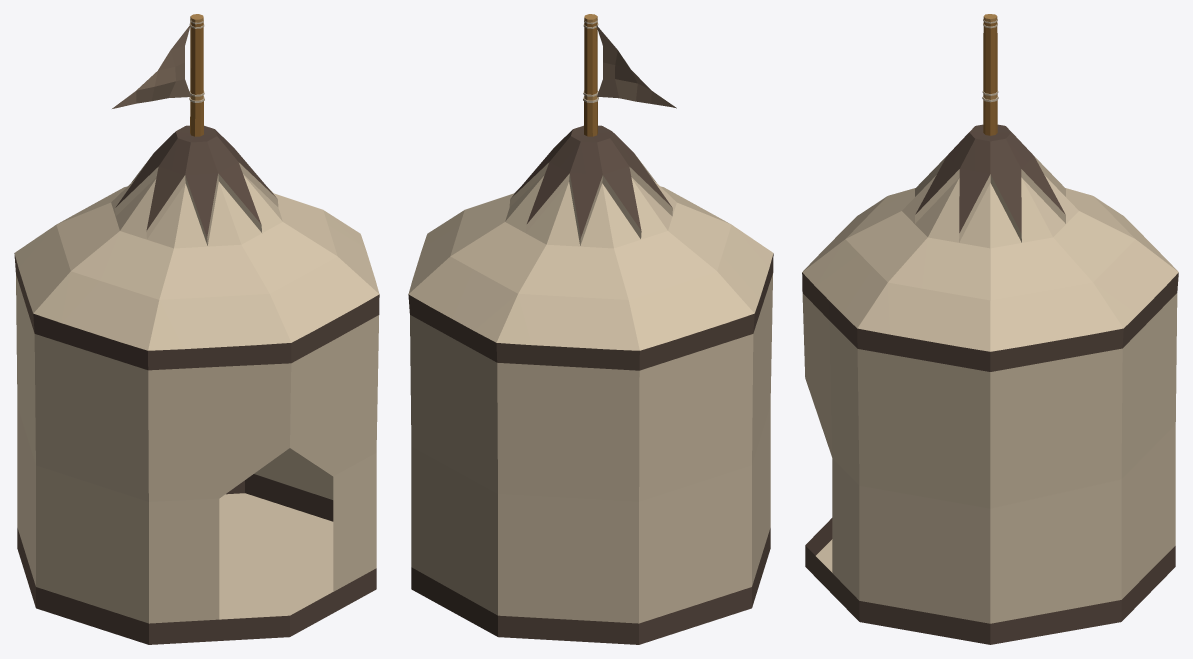
File: Tent_L.fbx
The picture shows the model from 3 angles, left to right: view 1: azimuth 30°, elevation 25°; view 2: azimuth 150°, elevation 25°; view 3: azimuth 270°, elevation 25°; orthographic projection.
Visible parts, largest first — view 1: Tent_L; view 2: Tent_L; view 3: Tent_L.
Part boxes in pixels (<box>): Tent_L: <box>14,14,379,644</box>; Tent_L: <box>408,14,773,644</box>; Tent_L: <box>802,14,1178,644</box>.
Bounding box in the file's own units: 203 × 328 × 203.
